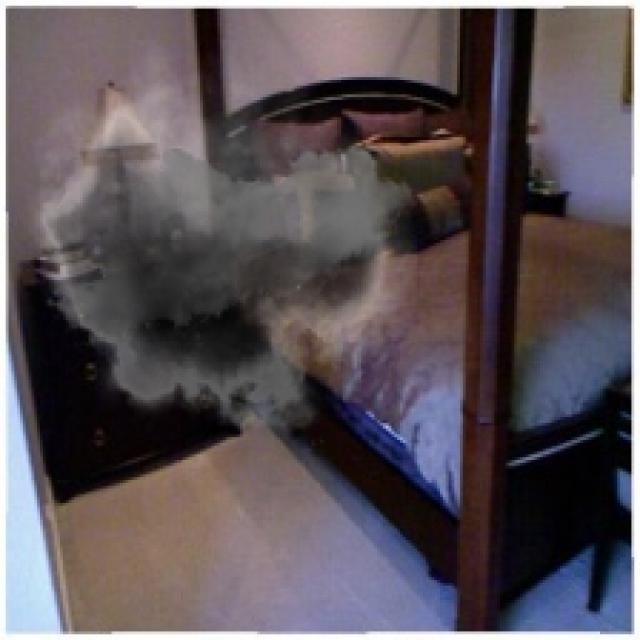smoke: (12, 37, 417, 452)
